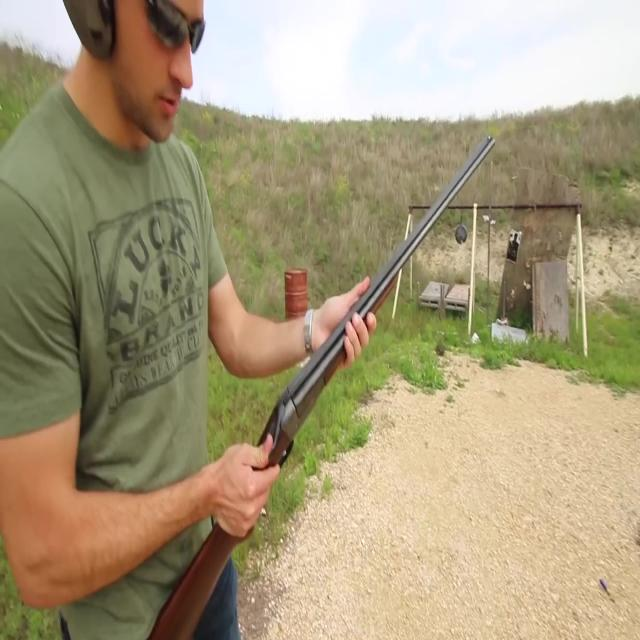Weapon: (130, 128, 525, 640)
